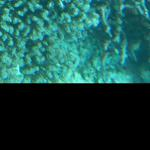dead: (1, 1, 146, 80)
